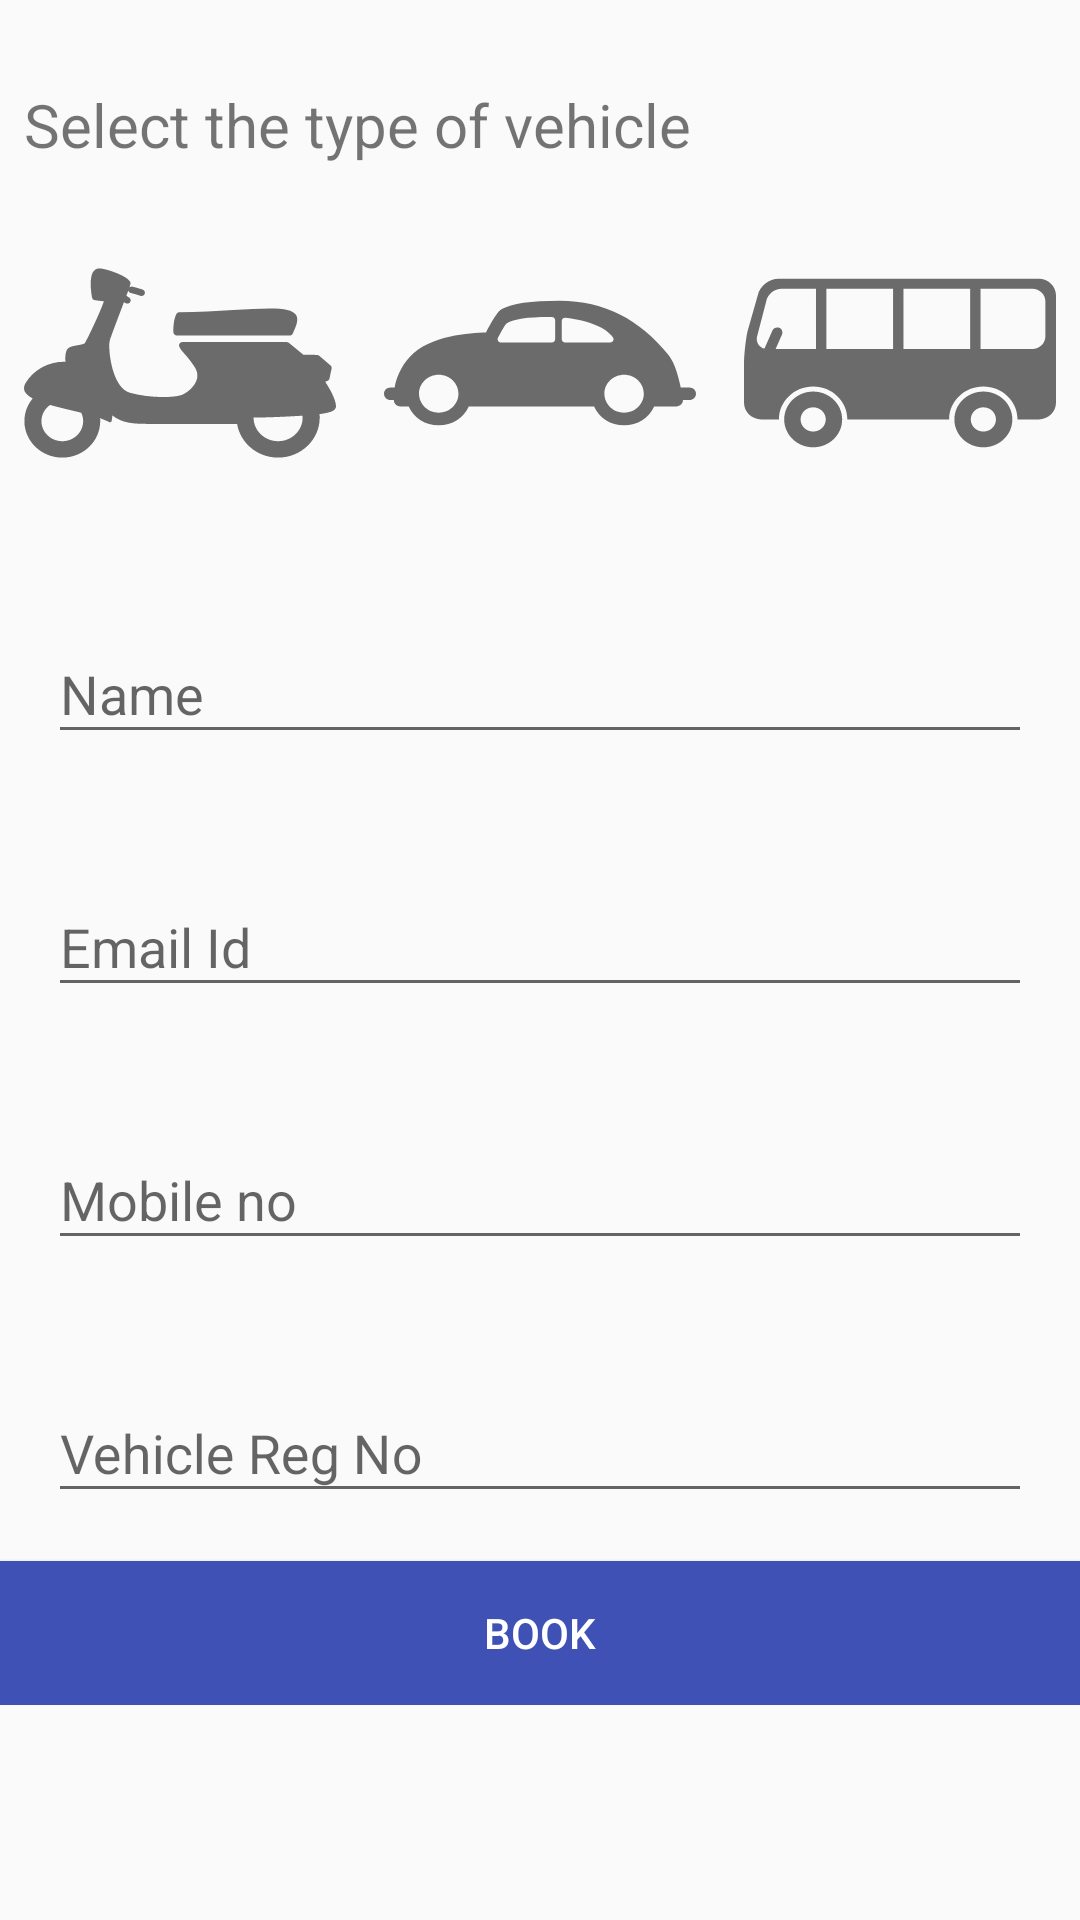

Named icons in this screenshot (1080x1920) and their centers, (x,y):
bike: (180,363)
bus: (900,363)
car: (540,363)
